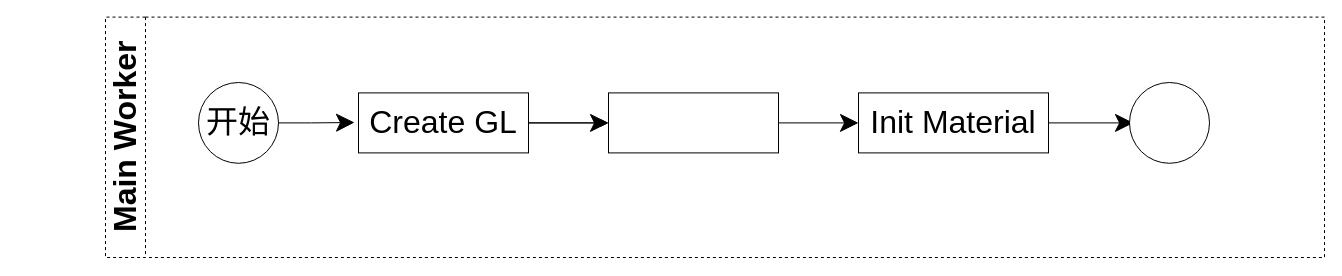
Some shapes in this 1342 by 276 pixel diagram are drawn without their labels. Here are the shapes that lost their labels. From the top down, the centre of each, then its label:
pixel 693 122: Init VBO
pixel 1169 122: 结束
